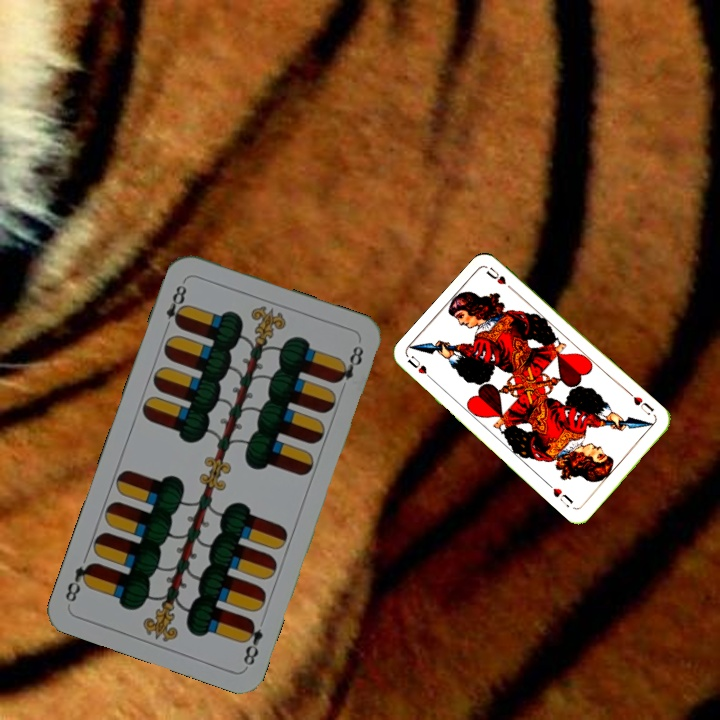E8: (160, 277, 189, 334), (239, 615, 266, 670)
HU: (403, 352, 437, 384), (629, 392, 657, 418)
